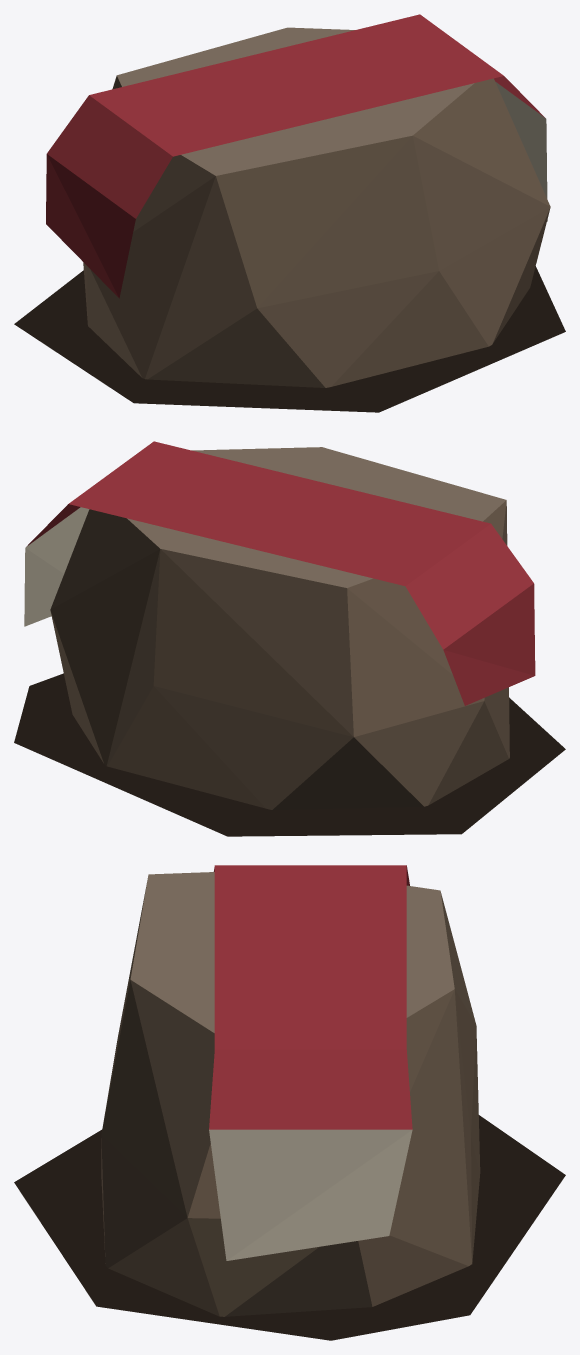
The model's file is tl_env_shrine_seat_a_v01.glb.
3 renders of one model, top to bottom at view 1: azimuth 30°, elevation 25°; view 2: azimuth 150°, elevation 25°; view 3: azimuth 270°, elevation 25°, orthographic. The views are drawn at different scales.
Parts seen in each view (by area): view 1: tl_env_shrine_seat_a_v01; view 2: tl_env_shrine_seat_a_v01; view 3: tl_env_shrine_seat_a_v01.
Part boxes in pixels (x1,y1,x2,y2): tl_env_shrine_seat_a_v01: [14, 14, 565, 412]; tl_env_shrine_seat_a_v01: [14, 441, 565, 836]; tl_env_shrine_seat_a_v01: [14, 865, 565, 1340].
Bounding box in the file's own units: 1.06 × 0.483 × 0.9489.
